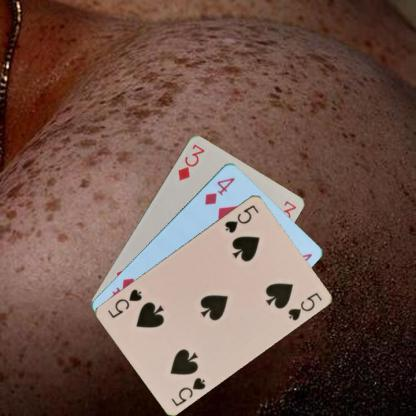3d: (174, 141, 206, 182)
4d: (202, 174, 236, 206)
5s: (169, 374, 207, 407), (222, 202, 260, 234)
